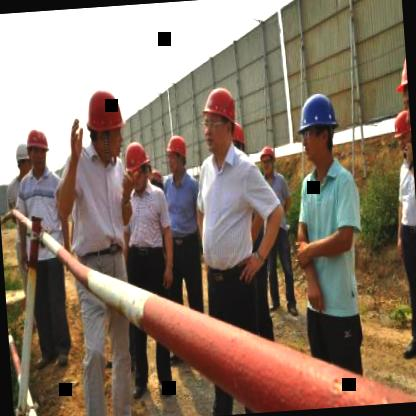helmet: (84, 84, 129, 166), (295, 86, 340, 168), (198, 84, 242, 156), (392, 43, 412, 140), (123, 138, 152, 190), (24, 125, 51, 175), (394, 101, 414, 165), (166, 132, 192, 180), (10, 139, 30, 180), (257, 144, 278, 180)
